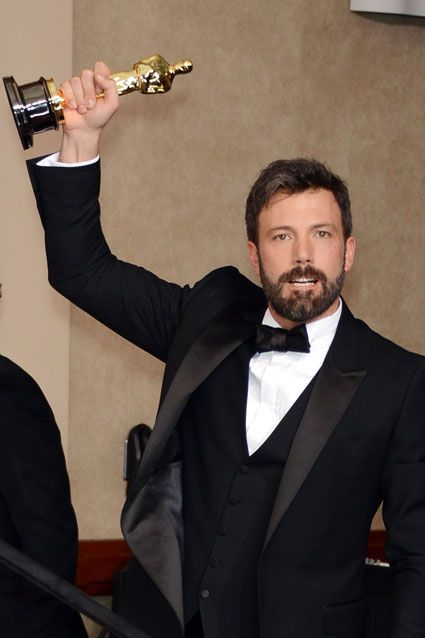hand: (63, 65, 110, 148)
